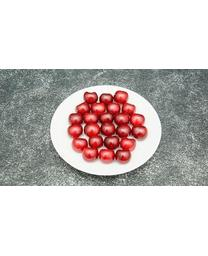cherry: (116, 149, 131, 163), (68, 125, 83, 138), (72, 138, 86, 151), (83, 149, 97, 162), (84, 92, 98, 104), (100, 123, 114, 135), (133, 127, 147, 139), (130, 115, 145, 126), (117, 125, 130, 137), (121, 137, 134, 149), (77, 103, 91, 114), (86, 124, 98, 136), (115, 91, 126, 104), (98, 150, 111, 161), (116, 114, 130, 124), (104, 137, 118, 147), (93, 104, 106, 114), (70, 114, 83, 124), (121, 104, 135, 113), (90, 138, 102, 147), (101, 94, 111, 104), (85, 114, 96, 123), (107, 103, 117, 112), (101, 114, 112, 122)
